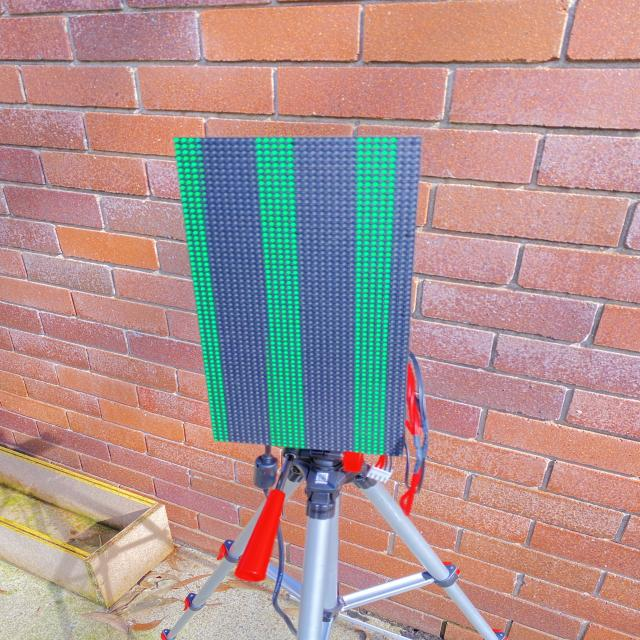matrix: (152, 128, 440, 460)
